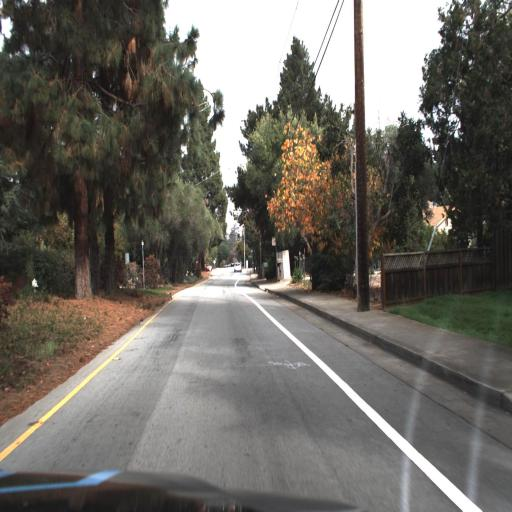car: (231, 256, 244, 276), (230, 259, 242, 275)
